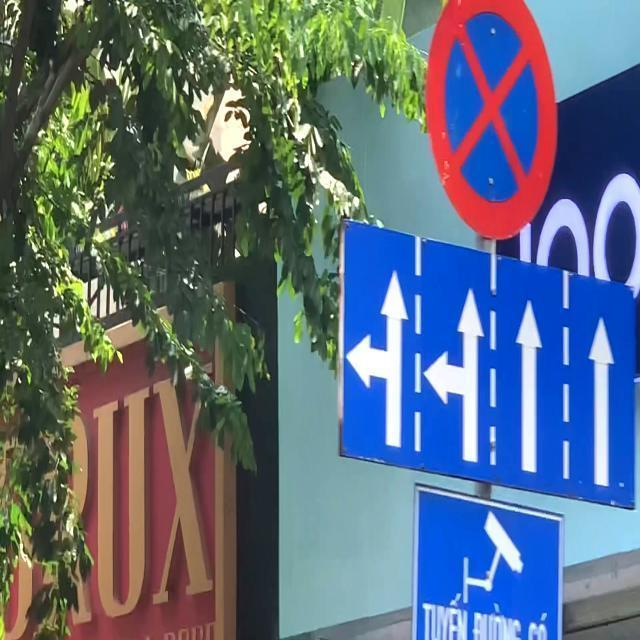130-cam-dung-va-do-xe: (420, 0, 562, 238)
